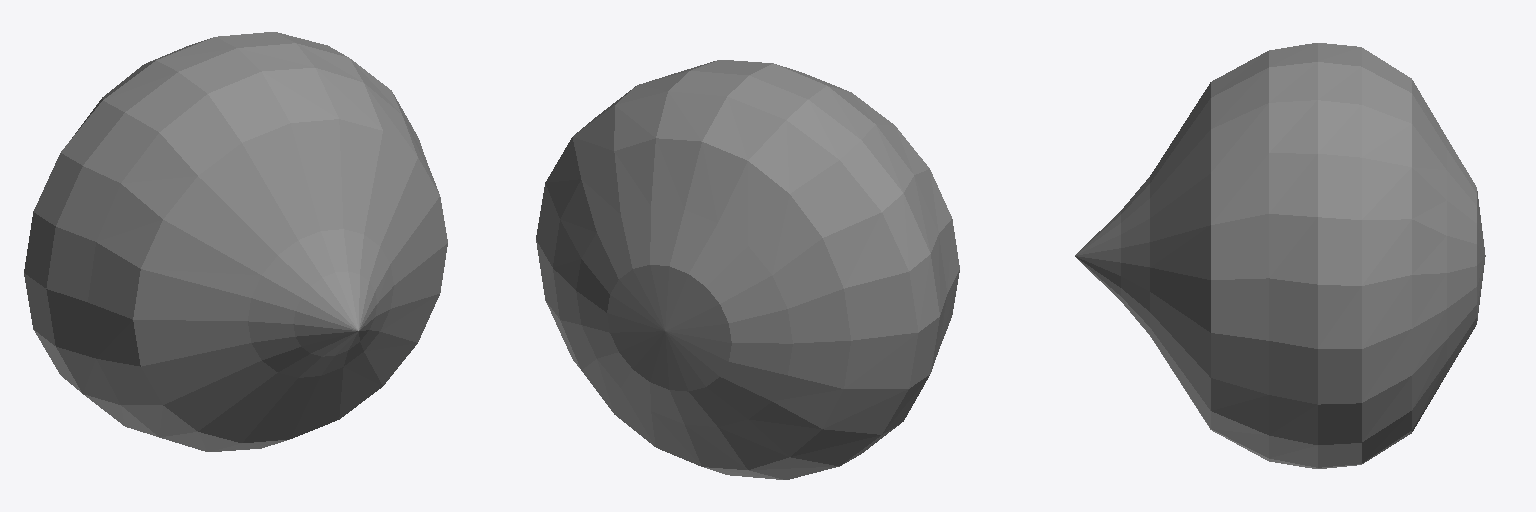
The model's file is Limo.obj.
3 views of the same model, side by side, from view 1: azimuth 30°, elevation 25°; view 2: azimuth 150°, elevation 25°; view 3: azimuth 270°, elevation 25° (orthographic).
Parts seen in each view (by area): view 1: Sphere01; view 2: Sphere01; view 3: Sphere01.
Part boxes in pixels (left/top/right/bottom): Sphere01: left=24, top=32, right=447, bottom=451; Sphere01: left=536, top=60, right=959, bottom=479; Sphere01: left=1075, top=43, right=1485, bottom=468.
Bounding box in the file's own units: 15.28 × 14.82 × 14.22.